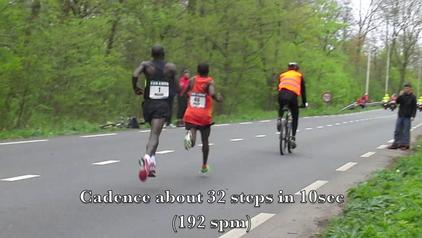hands_up: (271, 60, 308, 145)
stay: (391, 81, 416, 143)
walk: (135, 57, 183, 163), (179, 68, 222, 164)
